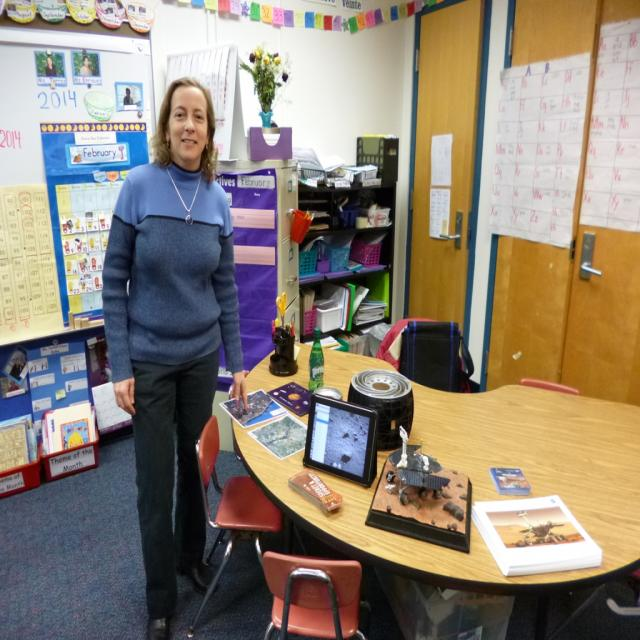chair: (193, 412, 286, 620), (259, 549, 369, 640), (374, 318, 474, 392)
desk: (280, 361, 637, 623)
person: (101, 70, 251, 630)
tv: (303, 391, 380, 490)
